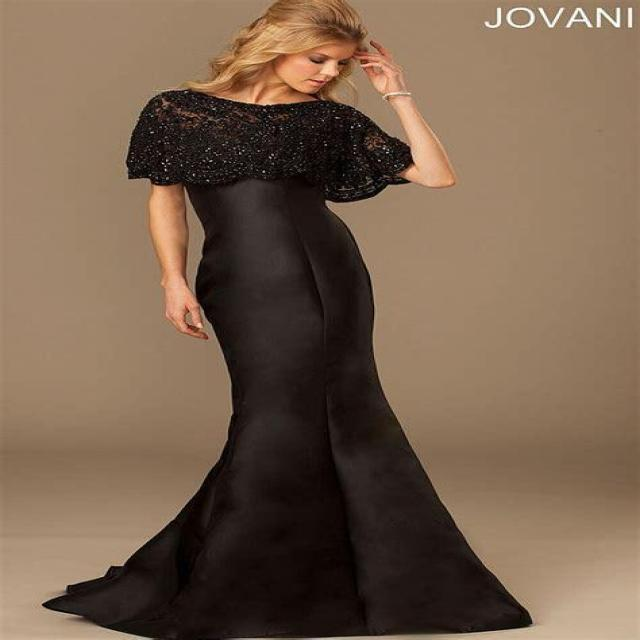dress: (42, 89, 532, 640)
